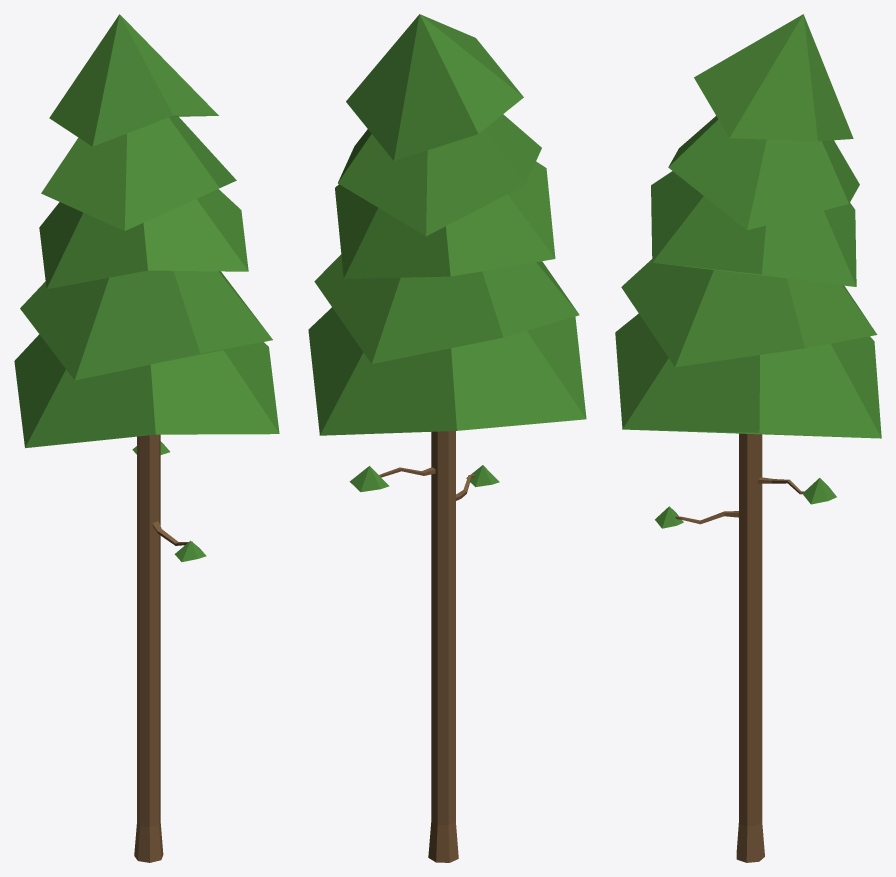
File: Pinienbaum.fbx
The picture shows the model from 3 angles, left to right: view 1: azimuth 30°, elevation 25°; view 2: azimuth 150°, elevation 25°; view 3: azimuth 270°, elevation 25°; orthographic projection. The views are drawn at different scales.
Visible parts, largest first — view 1: Cylinder; view 2: Cylinder; view 3: Cylinder.
Boxes of the visible parts, x1,y1,x2,y2 form: Cylinder: [14, 14, 279, 862]; Cylinder: [308, 14, 586, 862]; Cylinder: [615, 14, 881, 862].
Bounding box in the file's own units: 409 × 1265 × 363.
